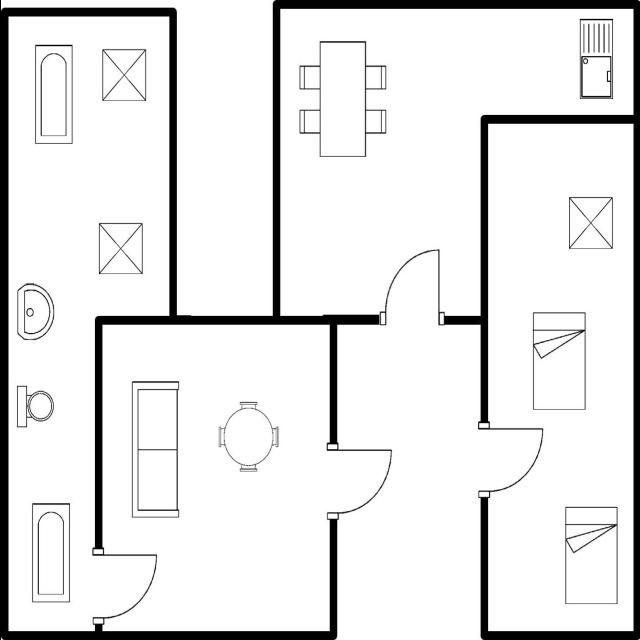bed: (526, 304, 591, 414), (560, 500, 621, 610)
coffee_table: (564, 189, 616, 255), (97, 44, 149, 108), (94, 218, 146, 280)
dining_table: (295, 36, 391, 164)
large_sink: (13, 377, 57, 432)
large_sofa: (124, 372, 184, 525)
round_table: (213, 396, 283, 478)
sink: (574, 13, 618, 108)
small_sink: (14, 276, 58, 344)
tub: (26, 497, 76, 608), (30, 38, 76, 148)
